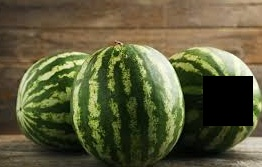watermelon: (73, 41, 184, 163), (17, 46, 99, 155), (183, 48, 262, 159)
